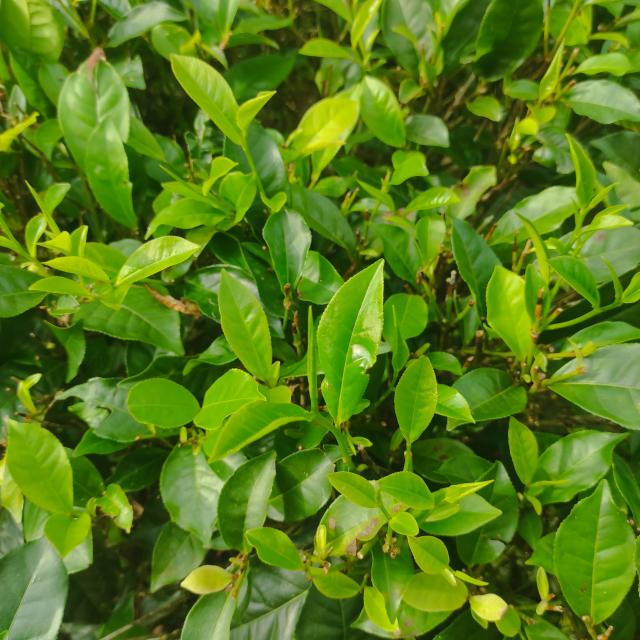unopened_leaf: (155, 155, 223, 209), (300, 300, 324, 413), (23, 175, 63, 240), (579, 175, 626, 219), (598, 248, 624, 304), (451, 562, 492, 588), (563, 188, 587, 224)
